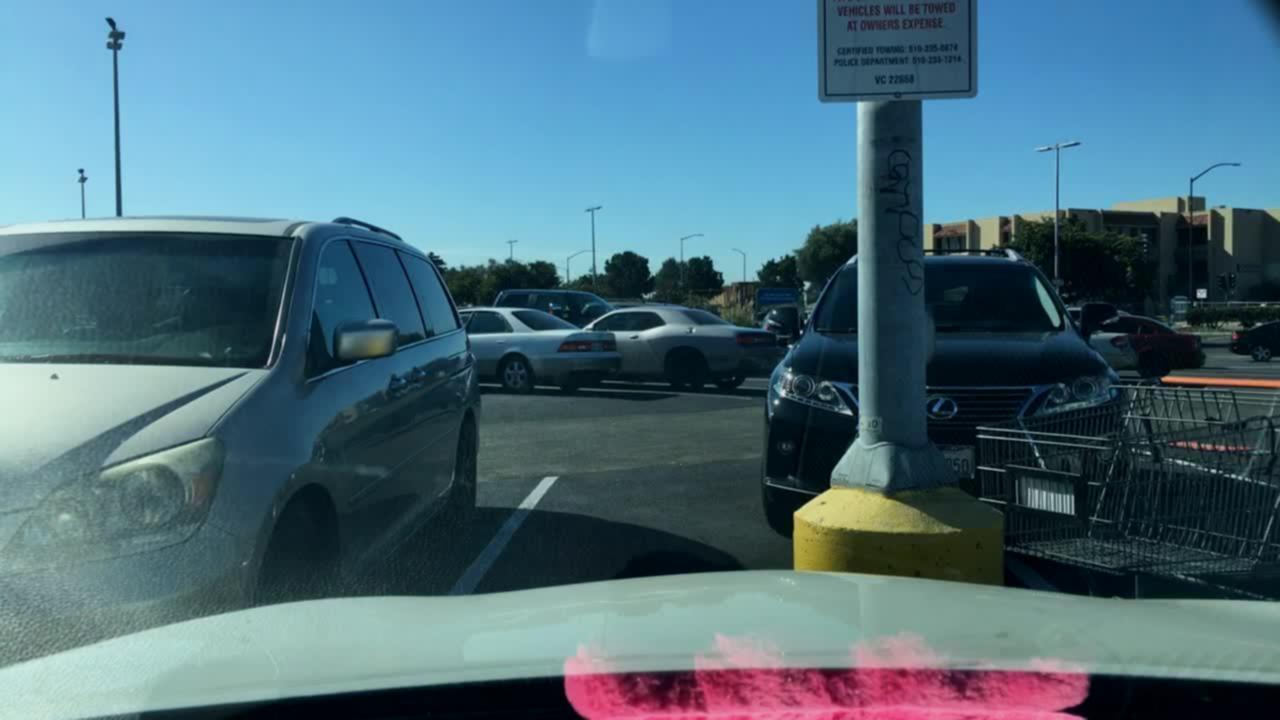lexus: (924, 392, 961, 424)
